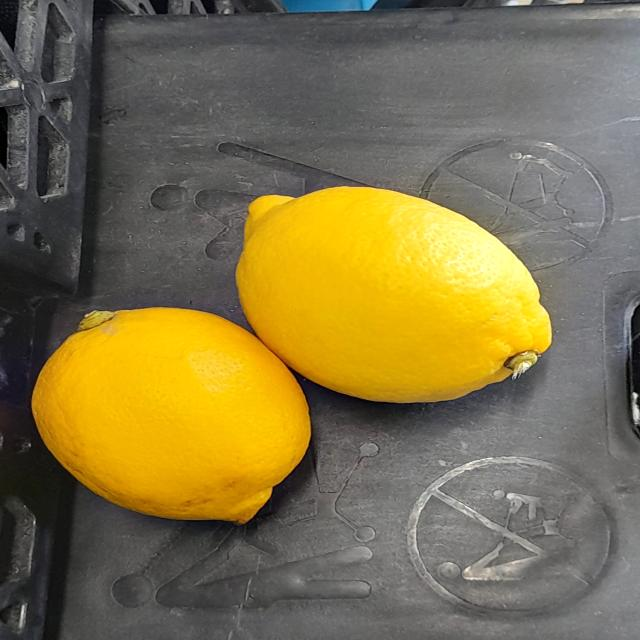lemon: (229, 174, 566, 418), (19, 290, 328, 533)
